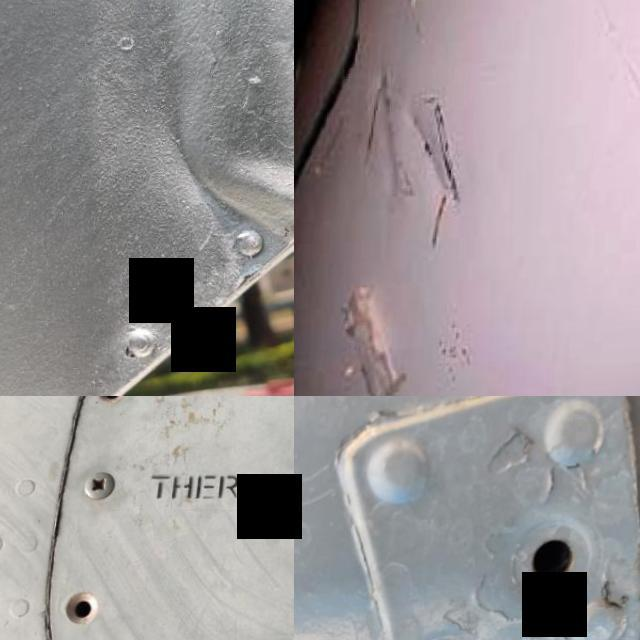Dent: (143, 93, 294, 274), (367, 65, 401, 206), (412, 108, 454, 194)
Missing_Fastener: (508, 510, 606, 614), (41, 571, 124, 640), (83, 396, 142, 425)
